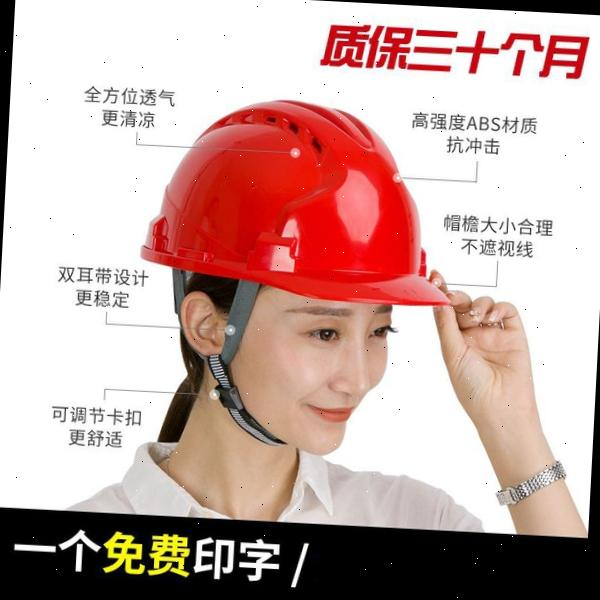helmet: (135, 89, 469, 320)
